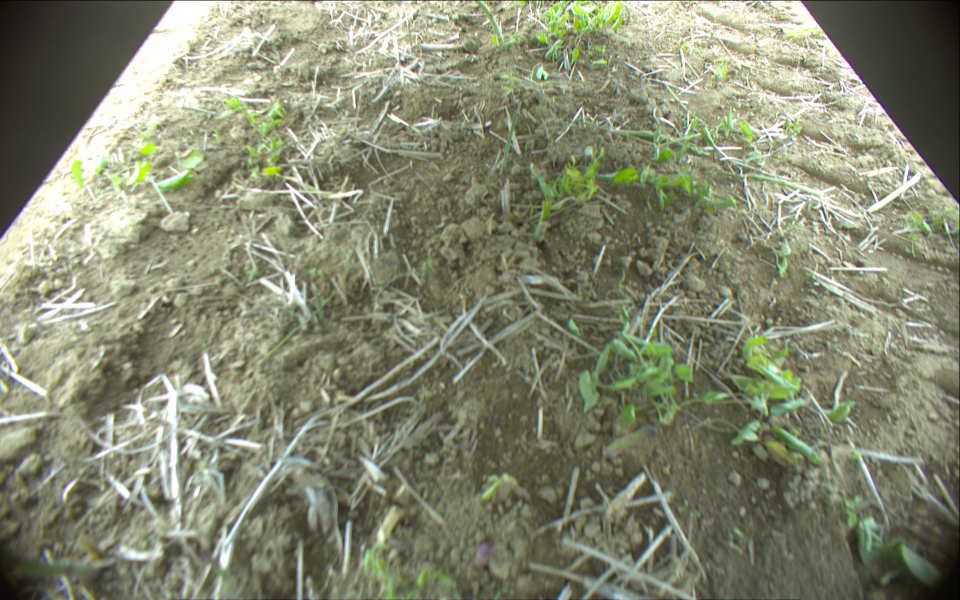aspa: (472, 1, 504, 42)
